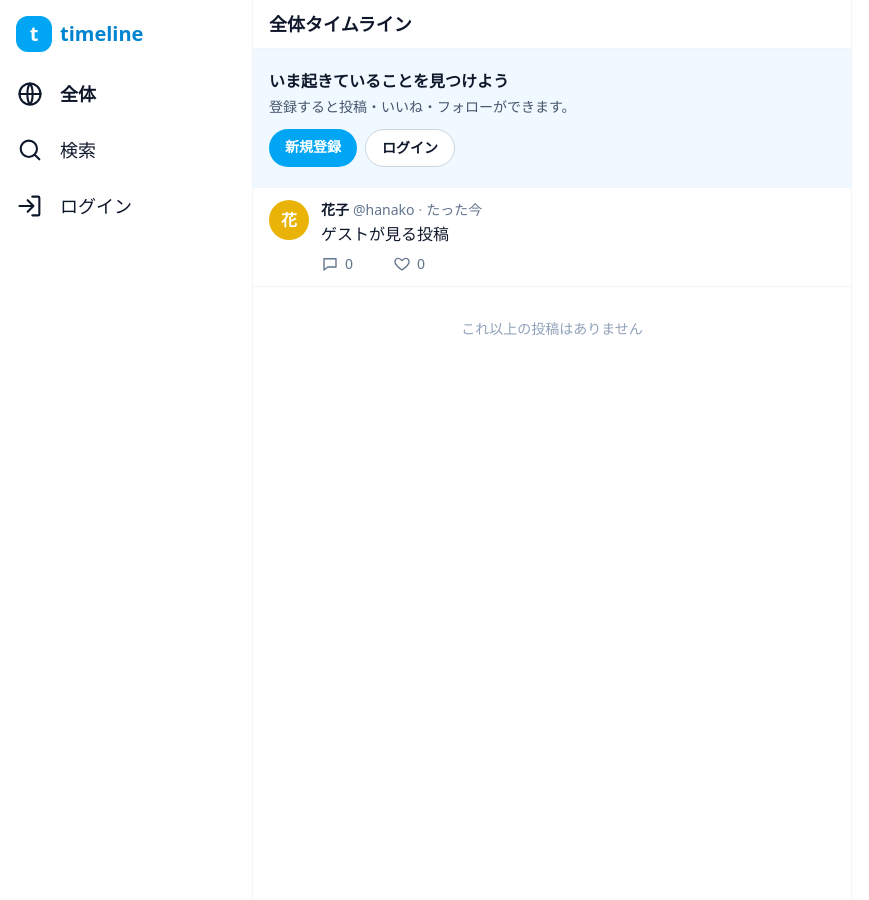
Test: いいね › 未ログインで押すとログイン画面へ移る
The image size is (869, 900).
Click the button named "いいね（0 件）": [409, 264] box [393,254,425,274]
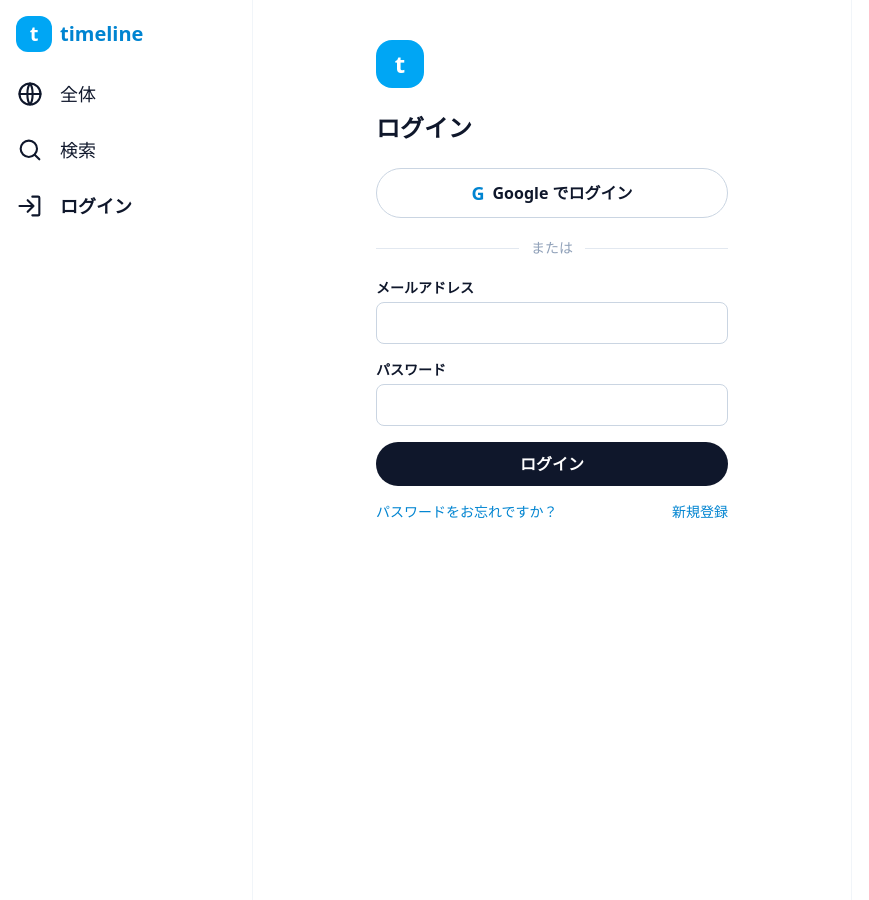
Expected: the heading "ログイン" is shown, [376,111,472,144]
